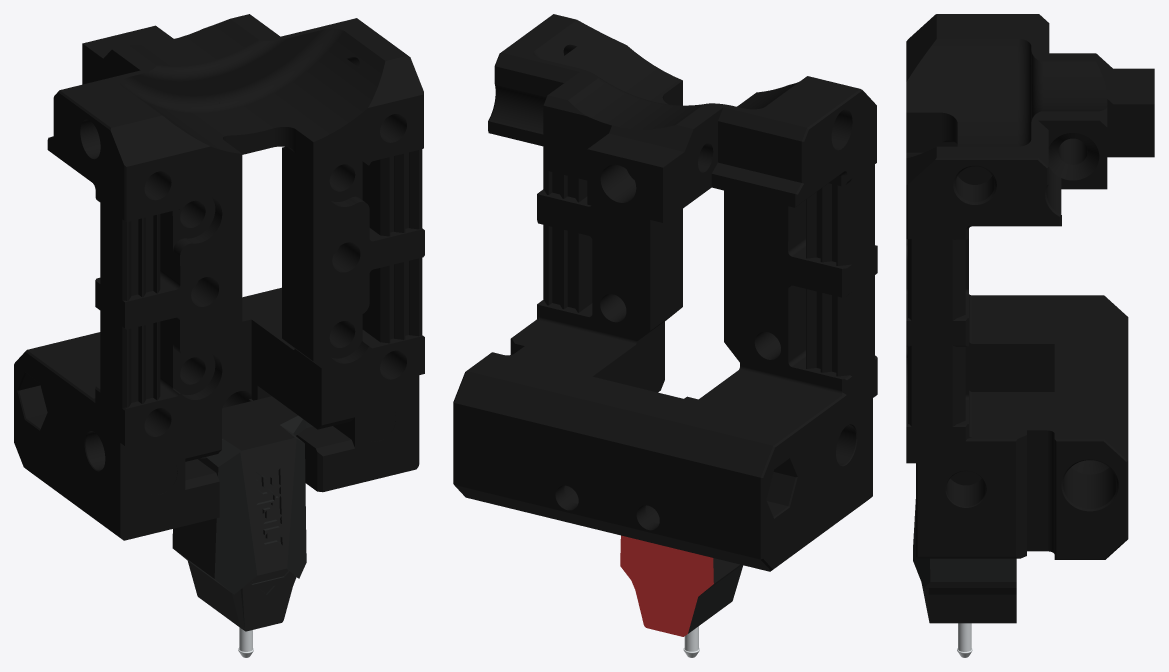
The model's file is carriage mount for BIQU microprobe.glb.
3 renders of one model, left to right at view 1: azimuth 30°, elevation 25°; view 2: azimuth 150°, elevation 25°; view 3: azimuth 270°, elevation 25°, orthographic. The views are drawn at different scales.
Size of the model in its own units: 0.0401 by 0.0735 by 0.029.
